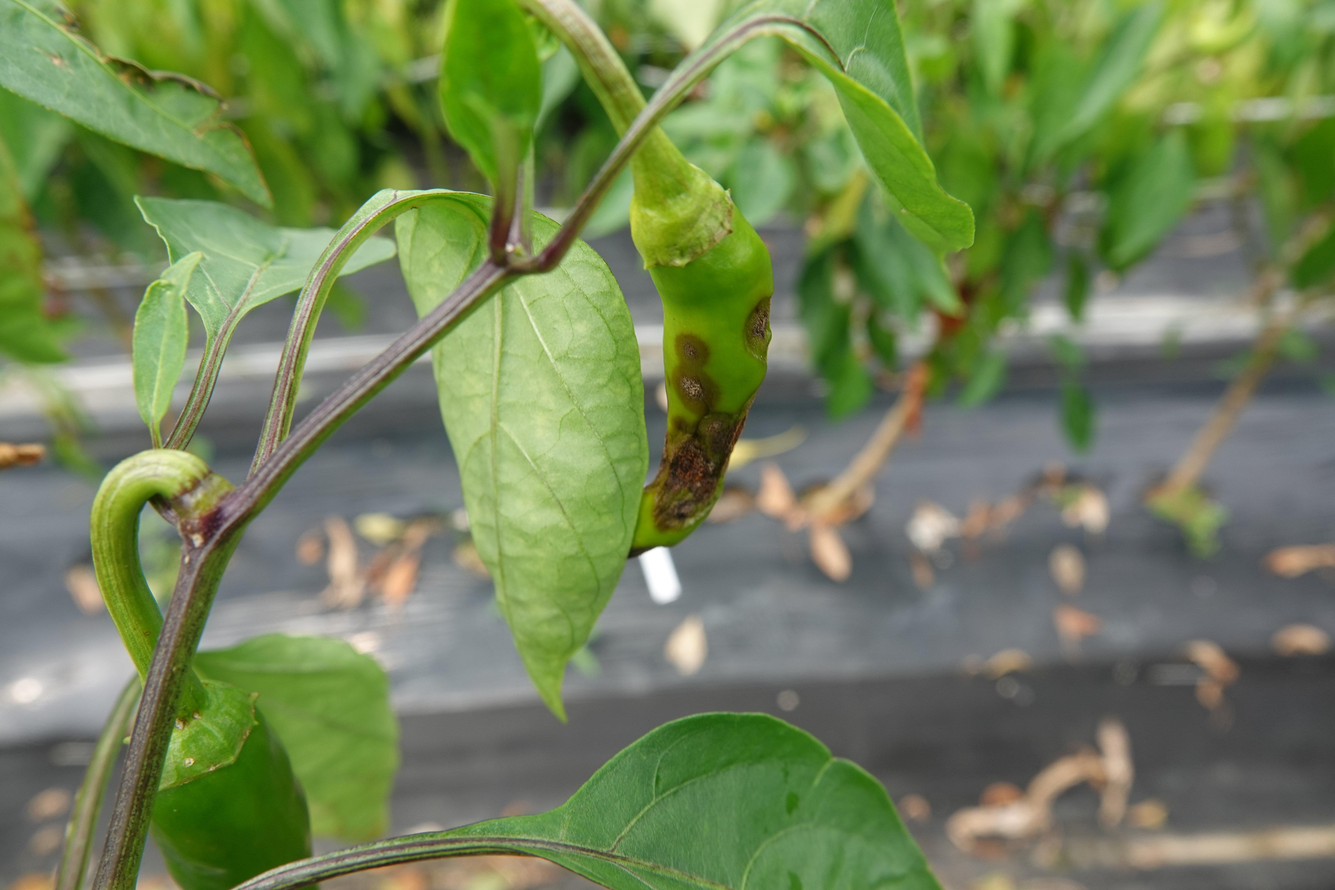Busuk Buah Antraknosa: (395, 186, 657, 726), (629, 181, 782, 558)
Daun Cabai Sehat: (529, 706, 961, 890)
